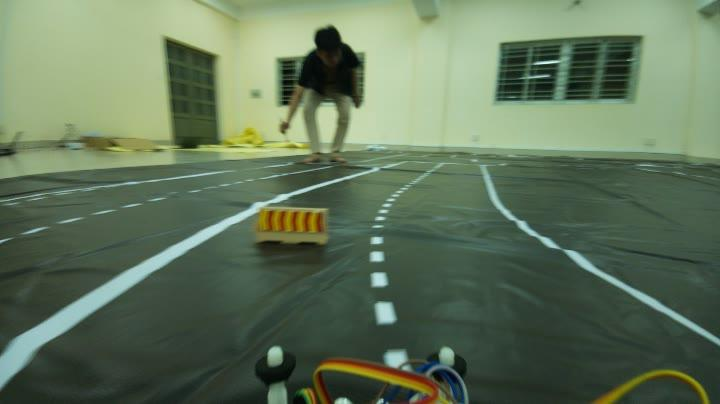roadblock: (252, 197, 336, 256)
